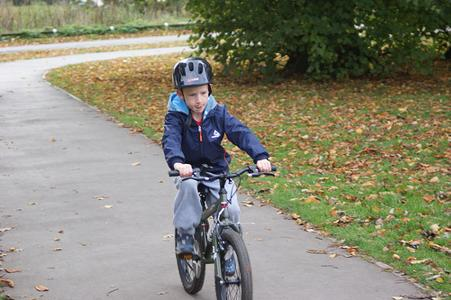person: (162, 59, 273, 284)
